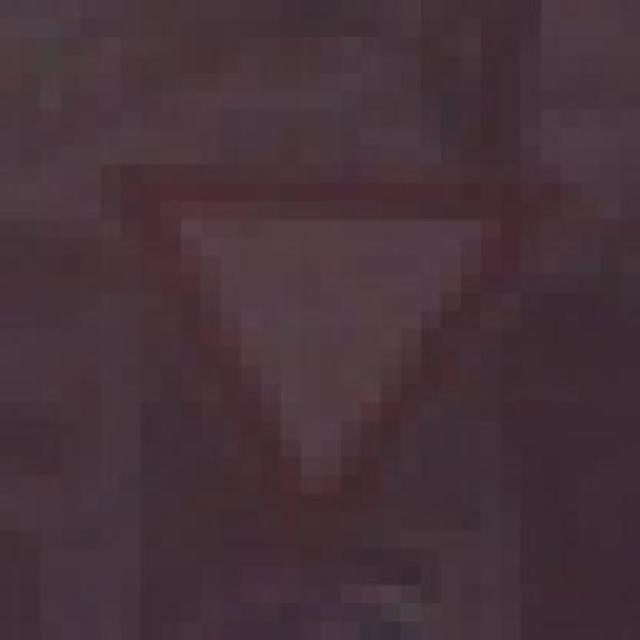Give Way: (60, 110, 560, 512)
